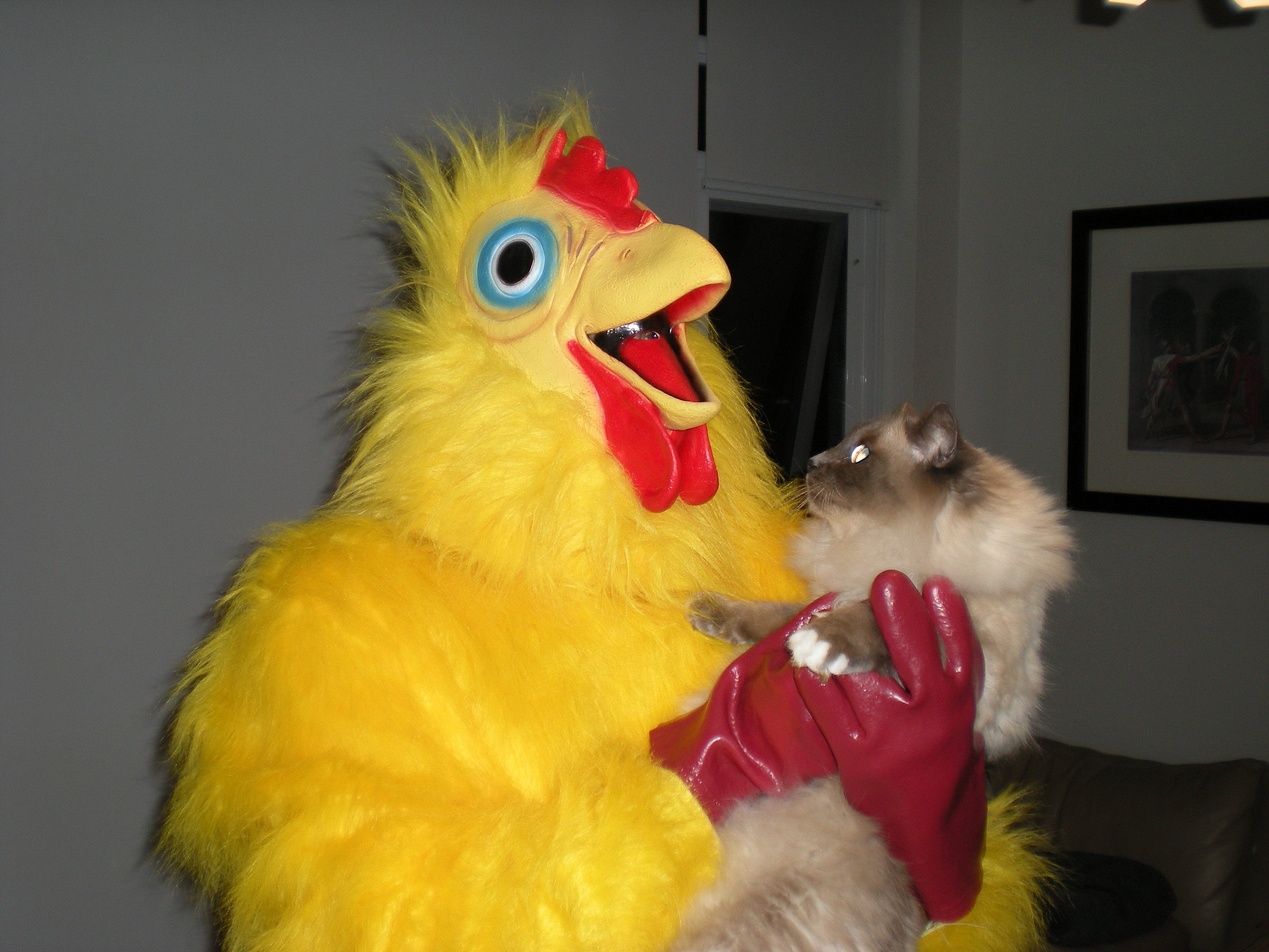cat: (661, 401, 1090, 951)
